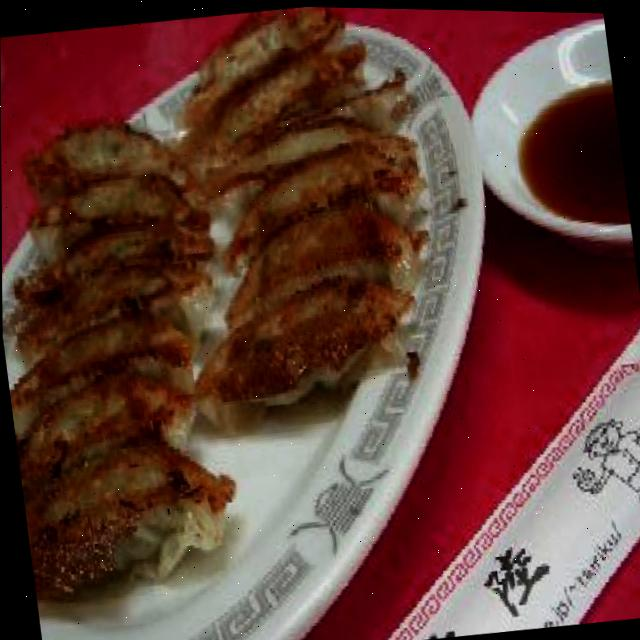带馅早点: (0, 0, 465, 630)
